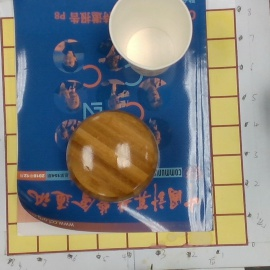chess: (67, 113, 160, 202)
cup: (107, 1, 193, 76)
